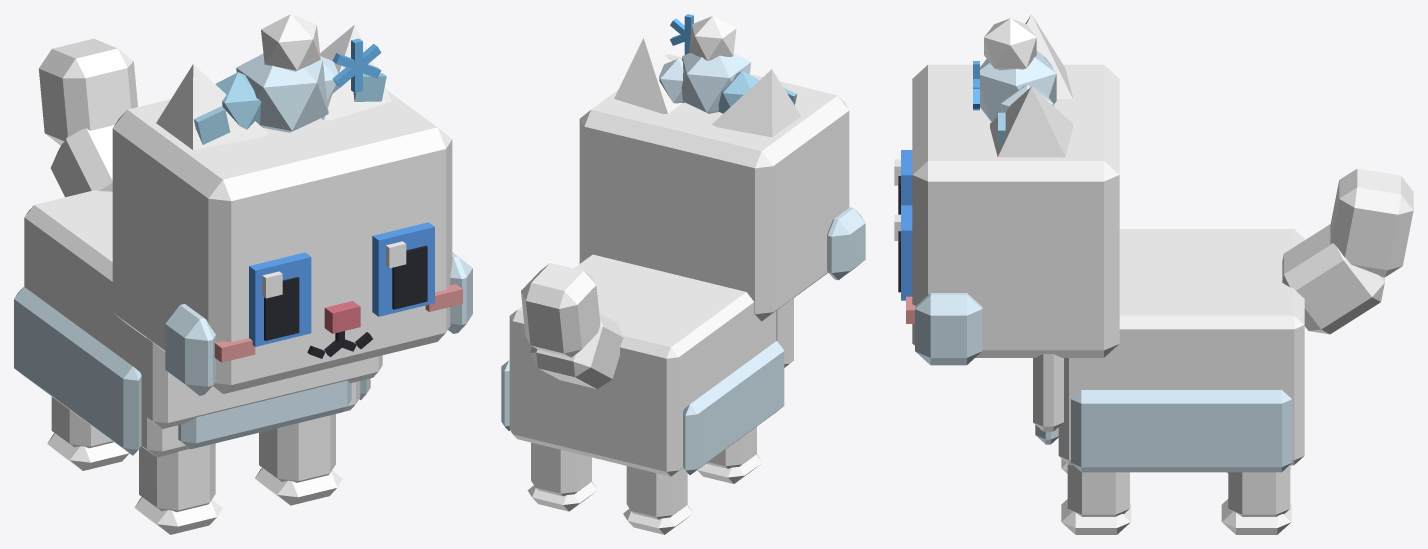
The model's file is CatCafe_Cat_Snowball.glb.
3 views of the same model, side by side, from view 1: azimuth 30°, elevation 25°; view 2: azimuth 150°, elevation 25°; view 3: azimuth 270°, elevation 25° (orthographic). The views are drawn at different scales.
Parts seen in each view (by area): view 1: CatCafe_Cat_Snowball_Head, CatCafe_Cat_Snowball_Body, CatCafe_Cat_Snowball_Tail, CatCafe_Cat_Snowball_Prop, CatCafe_Cat_Snowball_LegF2, CatCafe_Cat_Snowball_LegF1, CatCafe_Cat_Snowball_Eye1, CatCafe_Cat_Snowball_Eye2, CatCafe_Cat_Snowball_EarR, CatCafe_Cat_Snowball_LegB2, CatCafe_Cat_Snowball_EarL; view 2: CatCafe_Cat_Snowball_Head, CatCafe_Cat_Snowball_Body, CatCafe_Cat_Snowball_Tail, CatCafe_Cat_Snowball_Prop, CatCafe_Cat_Snowball_LegB2, CatCafe_Cat_Snowball_LegB1, CatCafe_Cat_Snowball_EarR, CatCafe_Cat_Snowball_EarL, CatCafe_Cat_Snowball_LegF2; view 3: CatCafe_Cat_Snowball_Head, CatCafe_Cat_Snowball_Body, CatCafe_Cat_Snowball_Tail, CatCafe_Cat_Snowball_Prop, CatCafe_Cat_Snowball_EarL, CatCafe_Cat_Snowball_LegF1, CatCafe_Cat_Snowball_LegB1, CatCafe_Cat_Snowball_Eye1, CatCafe_Cat_Snowball_EarR, CatCafe_Cat_Snowball_Eye2.
Part boxes in pixels (x1,y1,x2,y2): CatCafe_Cat_Snowball_Head: (112,90,472,395); CatCafe_Cat_Snowball_Body: (14,190,382,457); CatCafe_Cat_Snowball_Tail: (38,38,137,197); CatCafe_Cat_Snowball_Prop: (215,14,381,132); CatCafe_Cat_Snowball_LegF2: (134,443,222,534); CatCafe_Cat_Snowball_LegF1: (255,414,342,505); CatCafe_Cat_Snowball_Eye1: (372,222,434,316); CatCafe_Cat_Snowball_Eye2: (249,252,311,346); CatCafe_Cat_Snowball_EarR: (156,64,268,149); CatCafe_Cat_Snowball_LegB2: (47,397,129,470); CatCafe_Cat_Snowball_EarL: (320,24,391,120); CatCafe_Cat_Snowball_Head: (579,54,865,321); CatCafe_Cat_Snowball_Body: (501,254,793,476); CatCafe_Cat_Snowball_Tail: (521,263,623,388); CatCafe_Cat_Snowball_Prop: (659,14,759,113); CatCafe_Cat_Snowball_LegB2: (623,466,692,534); CatCafe_Cat_Snowball_LegB1: (527,442,597,511); CatCafe_Cat_Snowball_EarR: (712,69,800,137); CatCafe_Cat_Snowball_EarL: (614,38,682,113); CatCafe_Cat_Snowball_LegF2: (697,426,762,483); CatCafe_Cat_Snowball_Head: (906,64,1119,365); CatCafe_Cat_Snowball_Body: (1033,229,1304,472); CatCafe_Cat_Snowball_Tail: (1282,168,1413,334); CatCafe_Cat_Snowball_Prop: (973,18,1056,121); CatCafe_Cat_Snowball_EarL: (990,86,1072,157); CatCafe_Cat_Snowball_LegF1: (1061,464,1131,534); CatCafe_Cat_Snowball_LegB1: (1221,465,1291,534); CatCafe_Cat_Snowball_Eye1: (894,205,912,300); CatCafe_Cat_Snowball_EarR: (1025,14,1072,98); CatCafe_Cat_Snowball_Eye2: (894,150,912,214).
Bounding box in the file's own units: 1.18 × 2.06 × 2.01.
1 material, 1 textured.
